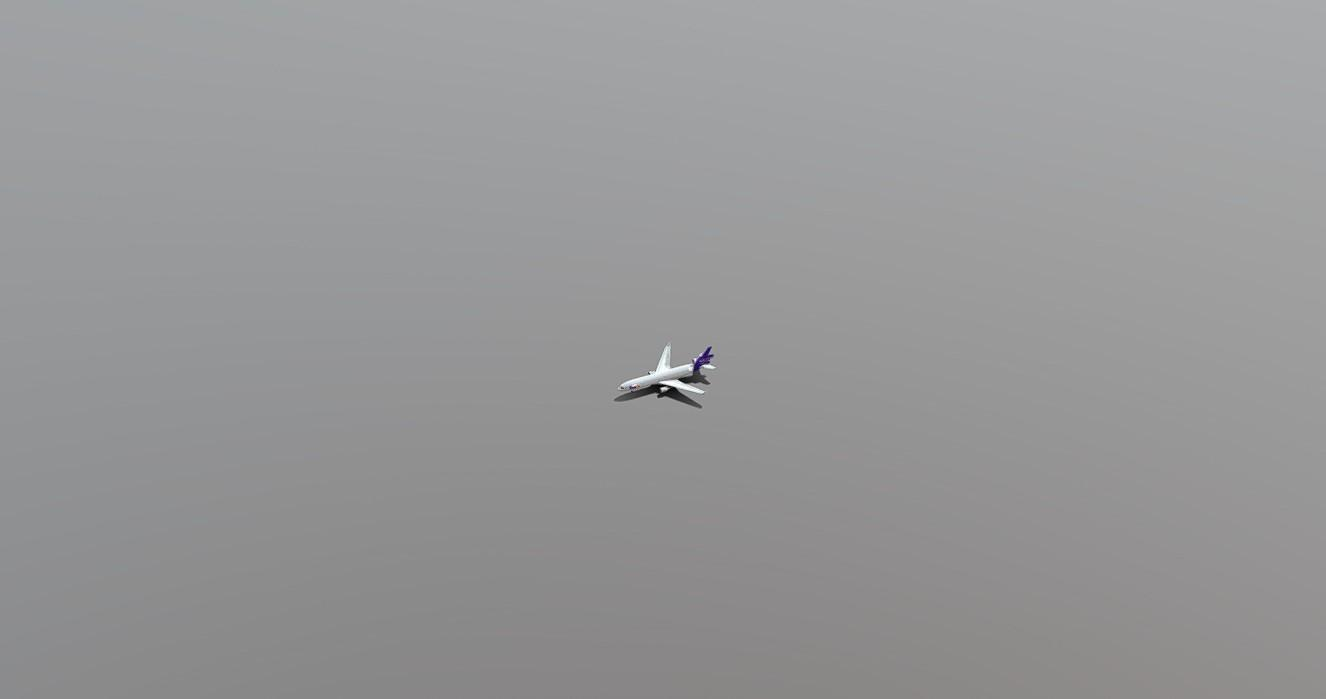Airplane: (612, 342, 716, 406)
